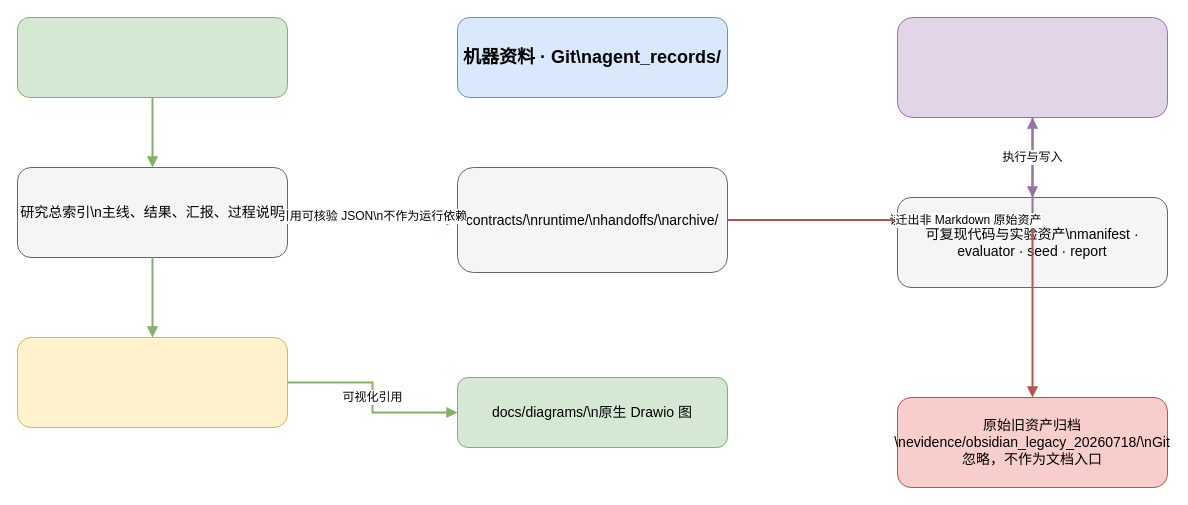
The diagram is 1188 pixels wide and 505 high, and some of its shapes have lost their labels. Each missing label, with the centre of its shape:
"人类写作规则\n结论 → 口径 → 证据 → 限制 → 下一步" belongs at point 152,382.
"人类资料 · Obsidian\n只保留 Markdown" belongs at point 152,57.
"科研 Agent 运行\n读取 JSON 合同与状态\n输出可重放记录" belongs at point 1032,67.
